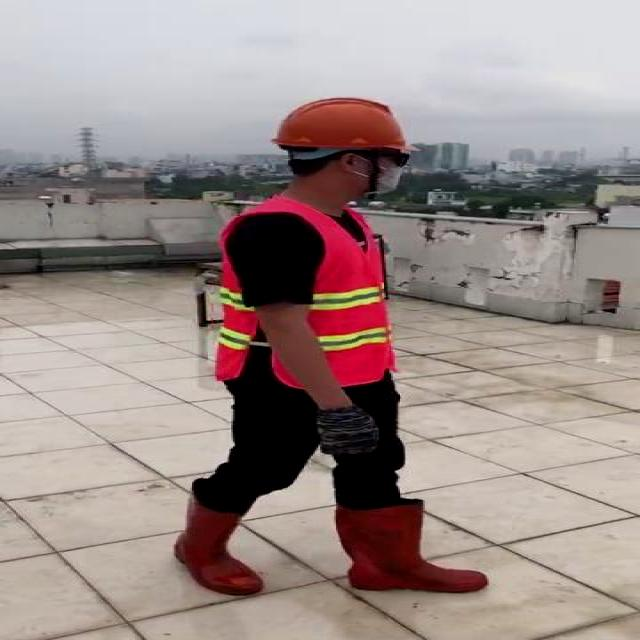boots: (336, 500, 492, 592), (172, 492, 270, 596)
face_mask: (344, 146, 420, 195)
hand_glove: (313, 406, 382, 457)
head_helmet: (269, 92, 415, 158)
person: (149, 87, 502, 599)
vest: (198, 196, 398, 387)
